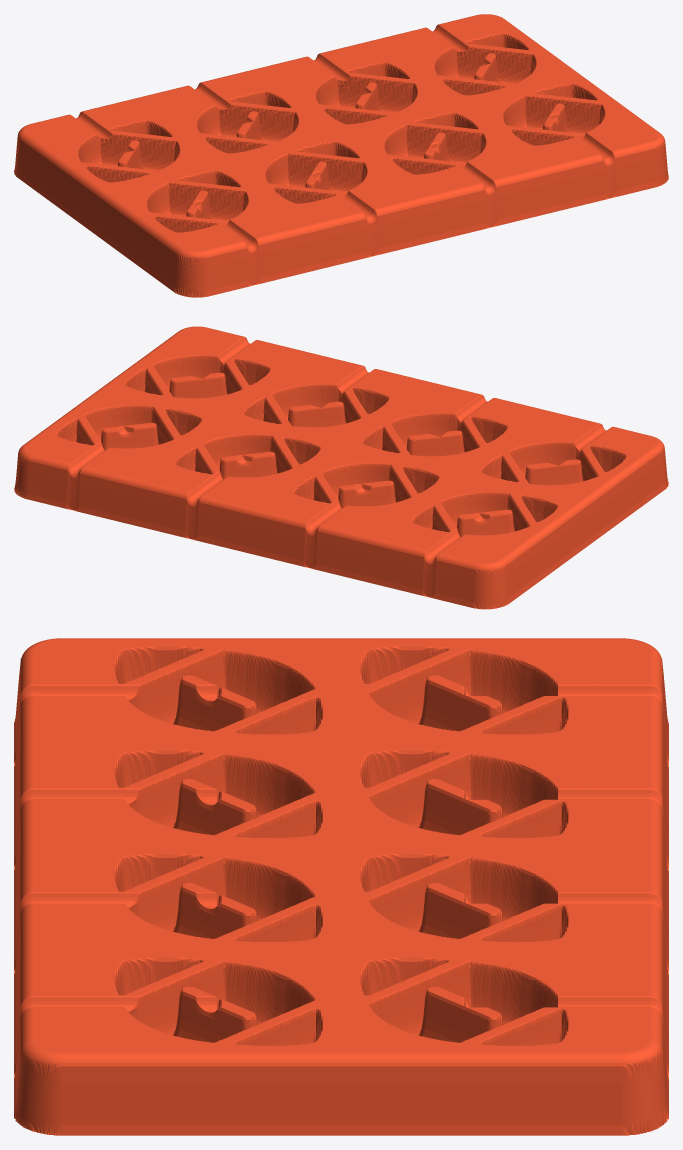
The model's file is mold.glb.
3 views of the same model, one above another, from view 1: azimuth 30°, elevation 25°; view 2: azimuth 150°, elevation 25°; view 3: azimuth 270°, elevation 25° (orthographic). The views are drawn at different scales.
Visible parts, largest first — view 1: geometry_0; view 2: geometry_0; view 3: geometry_0.
Part boxes in pixels (x1,y1,x2,y2): geometry_0: (14,14,668,297); geometry_0: (14,326,668,609); geometry_0: (14,638,668,1135).
Size of the model in its own units: 0.1907 by 0.0155 by 0.1229.
